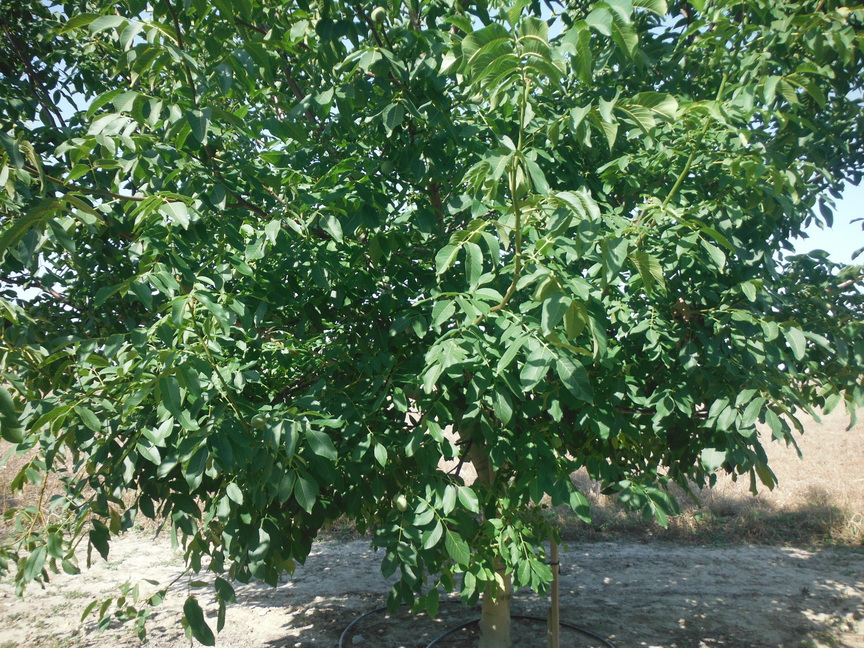walnut: (834, 4, 855, 23), (370, 4, 387, 26), (249, 413, 269, 430), (380, 158, 397, 178), (468, 89, 484, 106), (549, 432, 563, 451), (27, 303, 42, 318), (230, 266, 246, 280), (396, 496, 408, 514), (372, 508, 384, 524), (807, 294, 823, 306), (73, 297, 85, 312), (820, 301, 832, 315), (391, 492, 407, 502), (72, 218, 85, 230)
